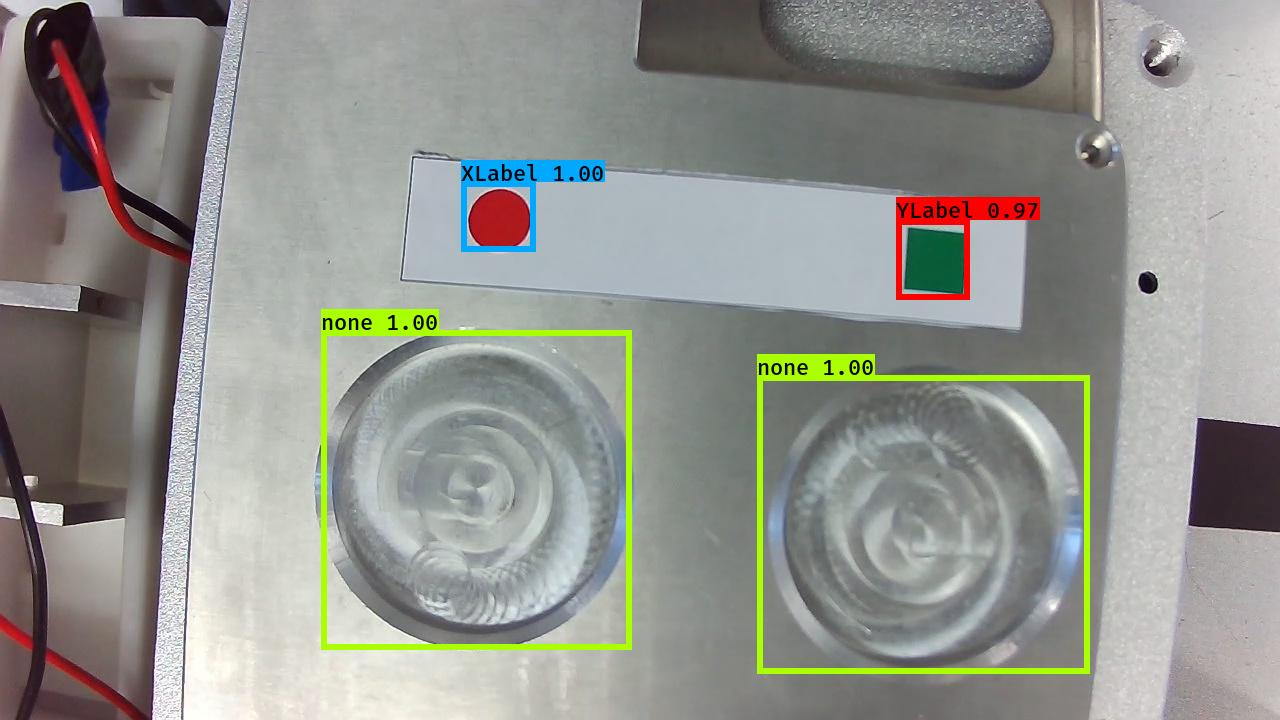XLabel: (462, 186, 534, 255)
YLabel: (902, 223, 971, 299)
none: (311, 320, 639, 653), (763, 359, 1086, 687)
